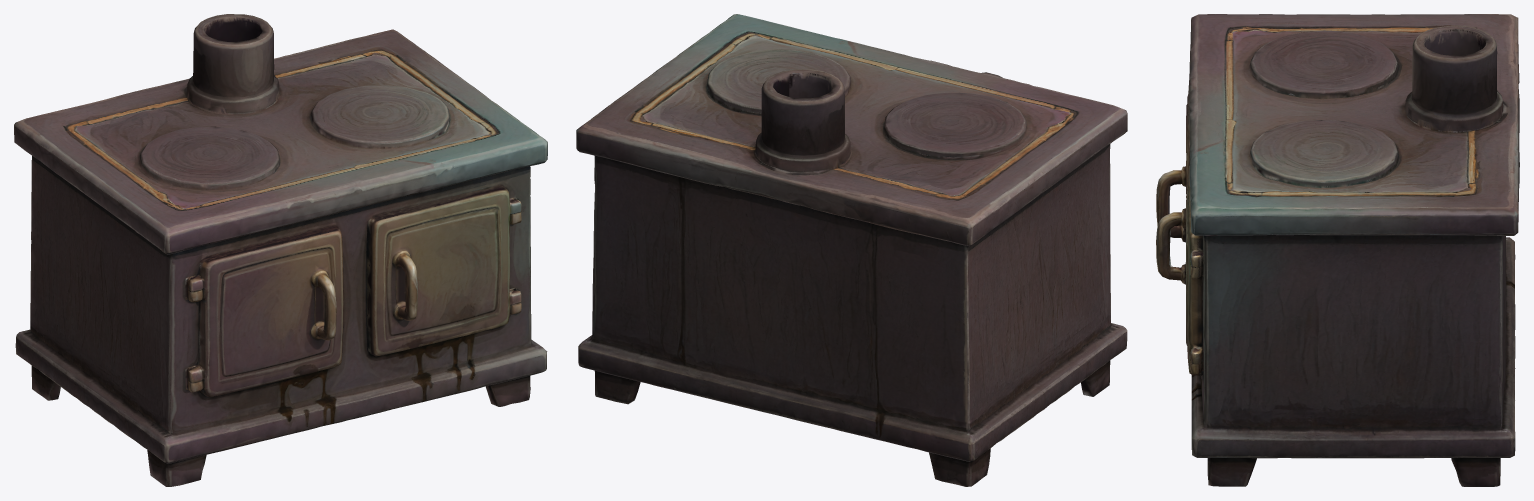
The model's file is Furn_KitchenStove.fbx.
3 renders of one model, left to right at view 1: azimuth 30°, elevation 25°; view 2: azimuth 150°, elevation 25°; view 3: azimuth 270°, elevation 25°, orthographic. The views are drawn at different scales.
Parts seen in each view (by area): view 1: texture_mapping; view 2: texture_mapping; view 3: texture_mapping.
Part boxes in pixels (x1,y1,x2,y2): texture_mapping: (14, 14, 547, 486); texture_mapping: (576, 14, 1127, 486); texture_mapping: (1156, 14, 1519, 486).
Bounding box in the file's own units: 1 × 0.7731 × 0.8226.
1 material, 1 textured.
